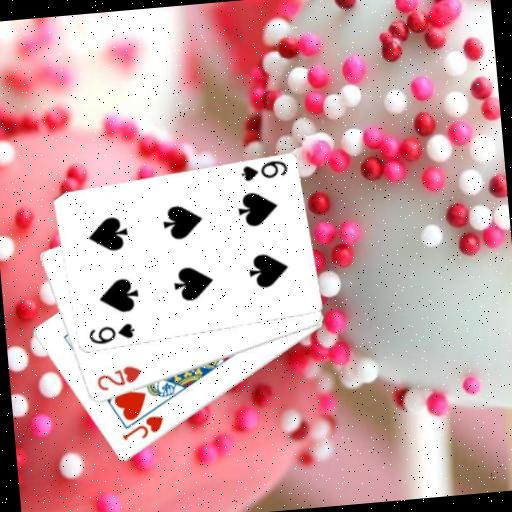2H: (92, 362, 144, 394)
6S: (85, 320, 137, 347), (237, 157, 289, 184)
JH: (118, 412, 167, 443)
